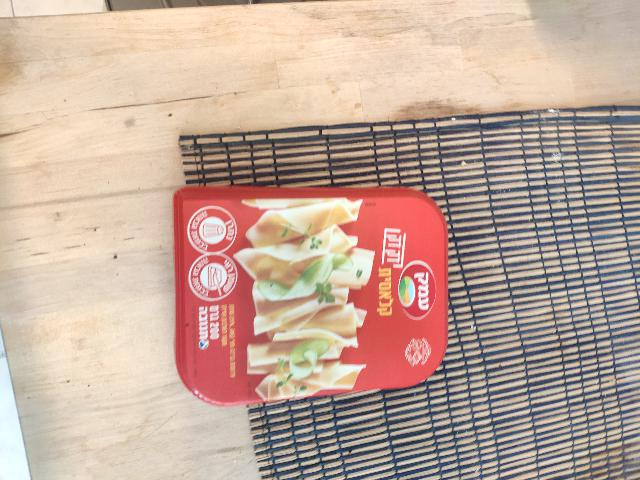cheese: (351, 208, 550, 480)
